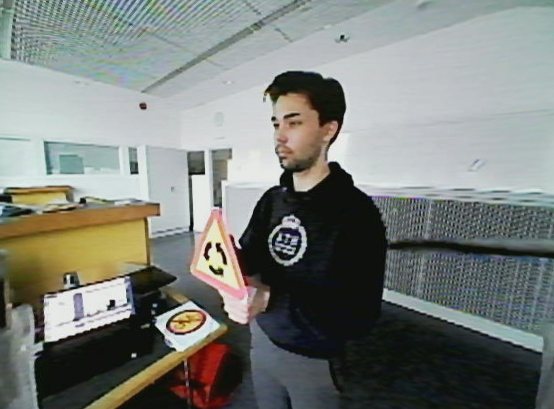roundabout_warning: (189, 204, 252, 305)
